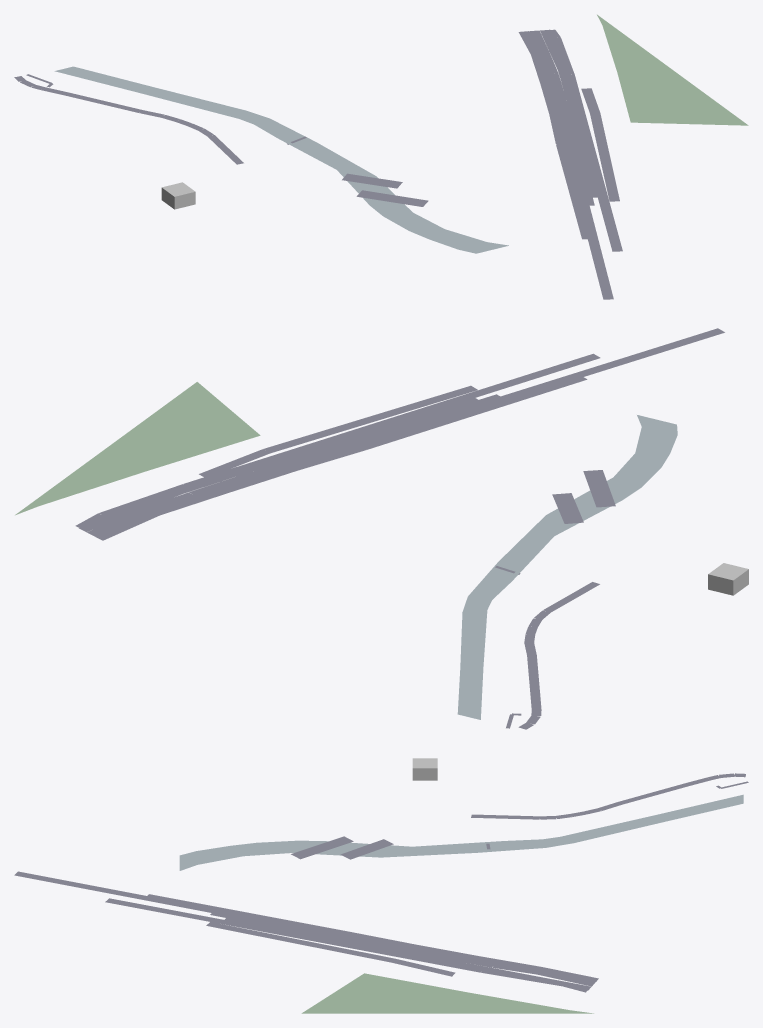
File: 136_107_mid.glb
The picture shows the model from 3 angles, top to bottom: view 1: azimuth 30°, elevation 25°; view 2: azimuth 150°, elevation 25°; view 3: azimuth 270°, elevation 25°; orthographic projection. The views are drawn at different scales.
Size of the model in its own units: 510 by 12.51 by 651.
